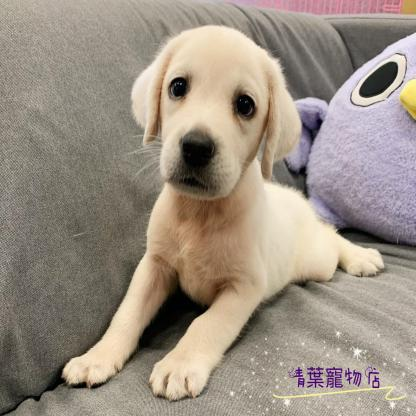Labarador Retriever: (58, 25, 385, 402)
